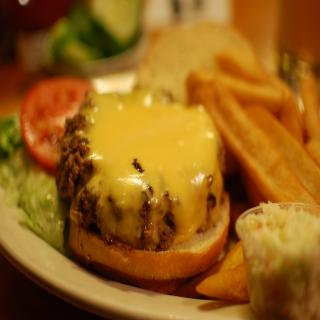French fries: (181, 43, 320, 309)
Hamburger: (51, 73, 237, 288)
